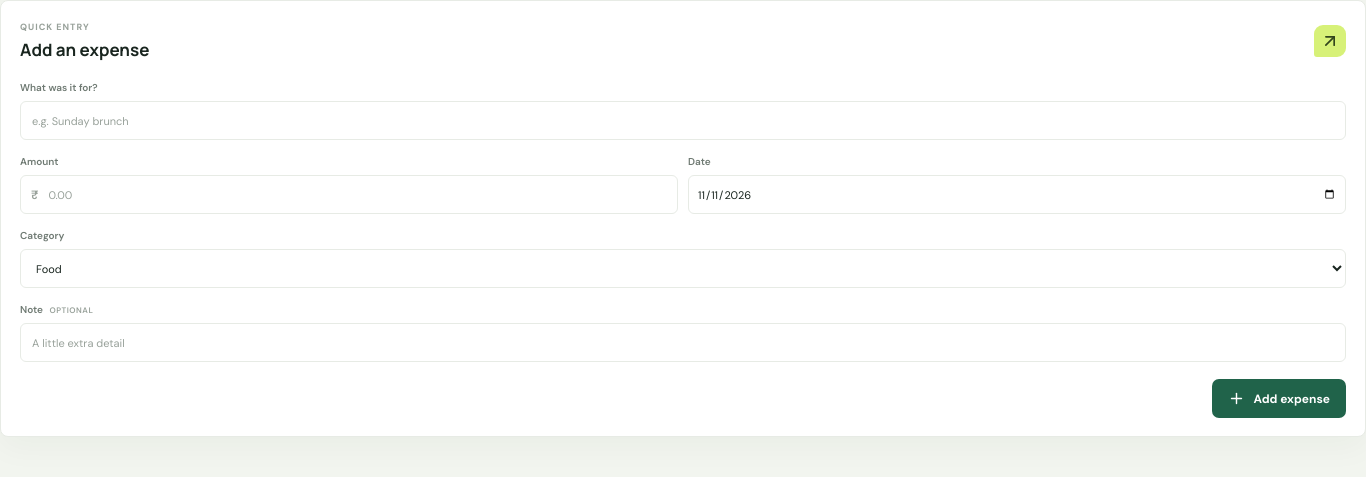
Test: ExpenseForm › shows a validation error when the title is empty
Type "80" into the field with placeholder "0.00" at [354, 194], box [40,177,667,212]
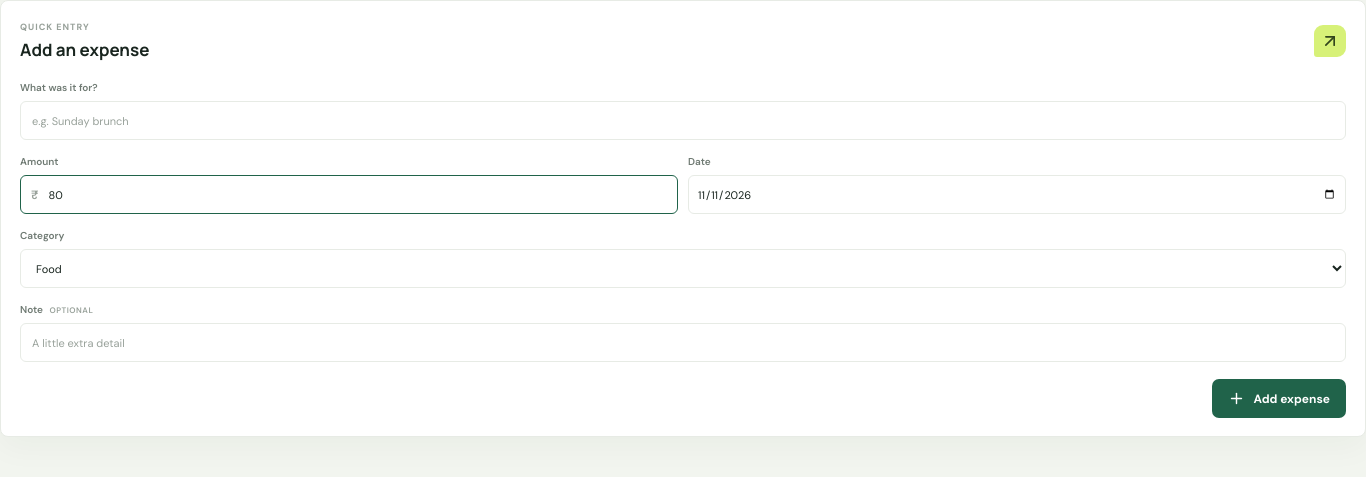
Click the button "Add expense" at [1279, 398], box [1212,379,1346,418]
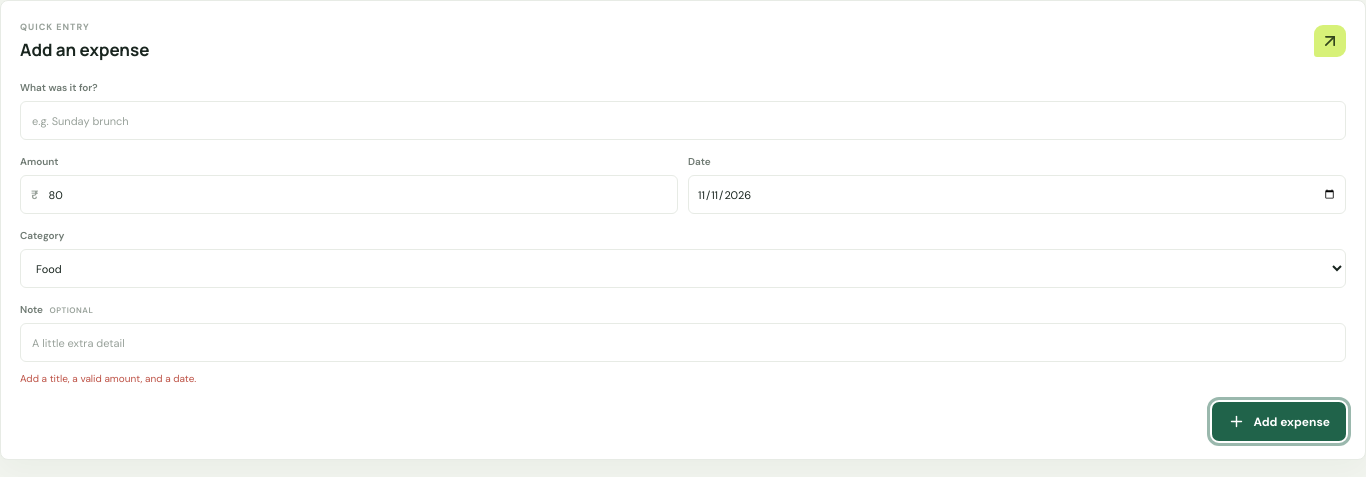
Check: the message shows "Add a title", box [20,372,196,385]
